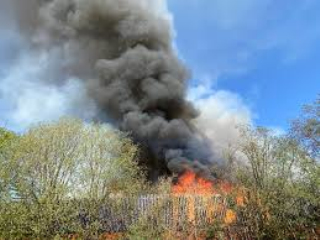fire: (174, 173, 243, 202)
smoke: (58, 3, 251, 171)
